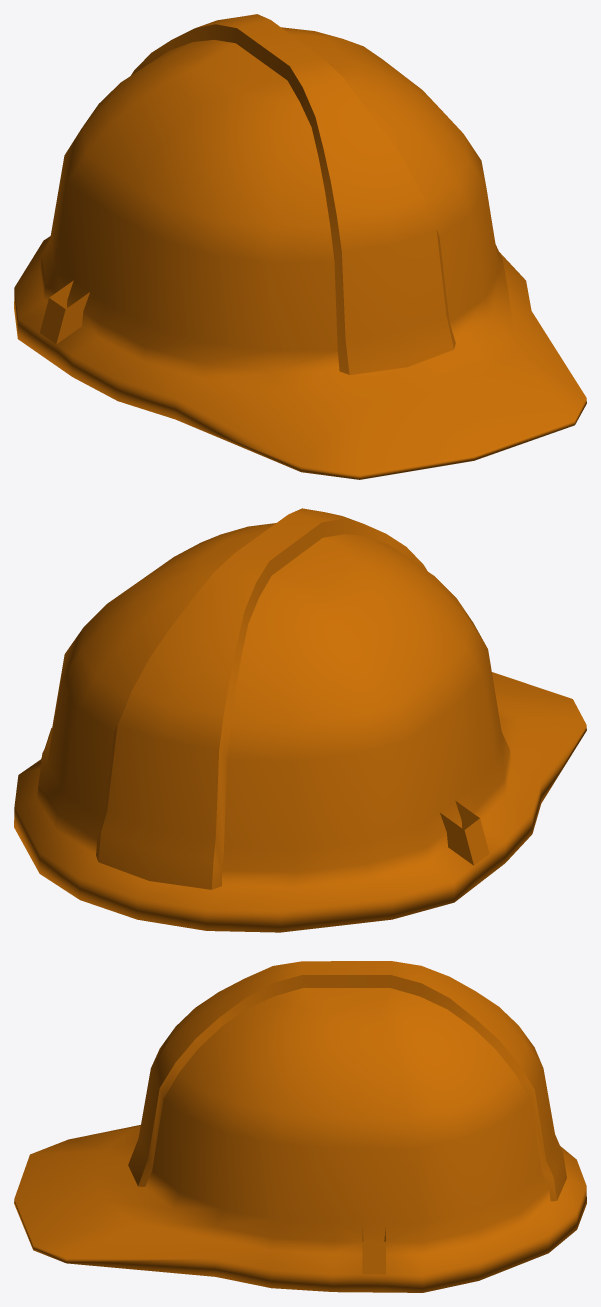
File: hardHat.fbx
The picture shows the model from 3 angles, top to bottom: view 1: azimuth 30°, elevation 25°; view 2: azimuth 150°, elevation 25°; view 3: azimuth 270°, elevation 25°; orthographic projection. The views are drawn at different scales.
Visible parts, largest first — view 1: helmet; view 2: helmet; view 3: helmet.
Boxes of the visible parts, x1=… form: helmet: x1=14, y1=14, x2=586, y2=479; helmet: x1=14, y1=508, x2=586, y2=932; helmet: x1=14, y1=961, x2=586, y2=1292.
Bounding box in the file's own units: 0.3298 × 0.2009 × 0.4427.
1 material, 1 textured.
